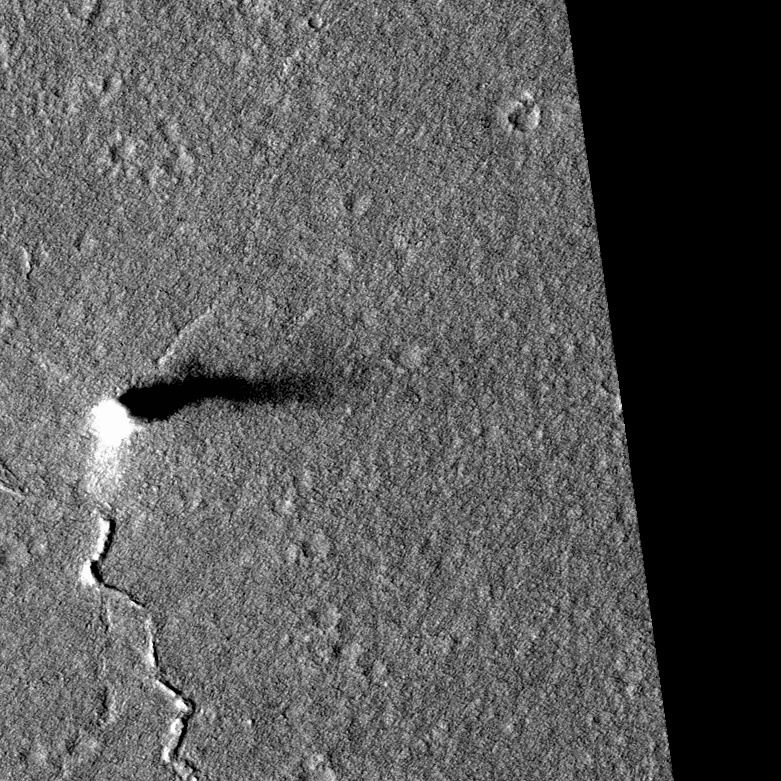dust_devil: (82, 360, 338, 463)
